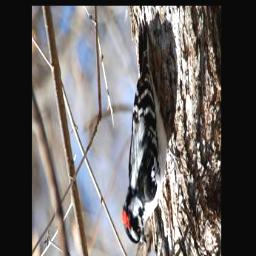Woodpecker: (121, 22, 169, 251)
